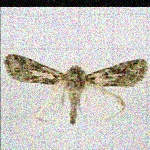Spodoptera litura: (4, 53, 148, 124)
